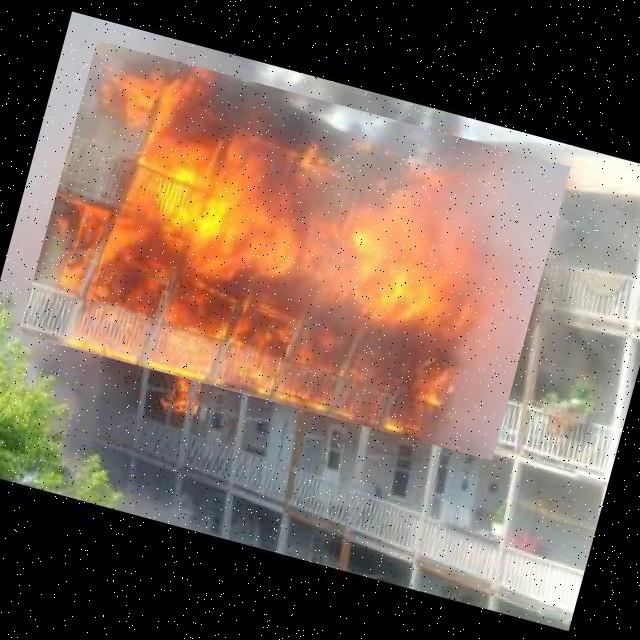fire: (18, 40, 570, 460)
